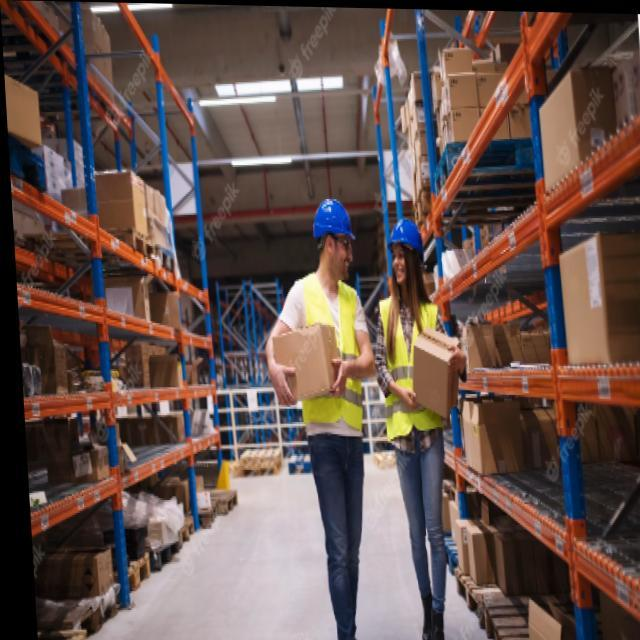helmet: (306, 192, 361, 282), (383, 212, 428, 293)
vest: (292, 267, 367, 430), (376, 290, 451, 443)
